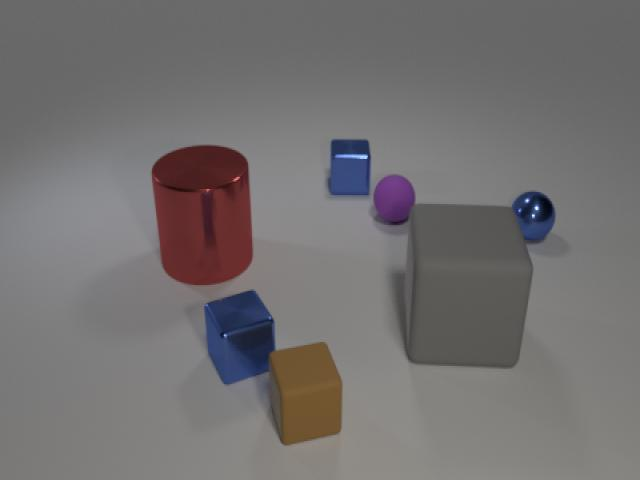cylinder: (149, 144, 256, 286)
round ball: (371, 170, 420, 230), (511, 190, 559, 248)
